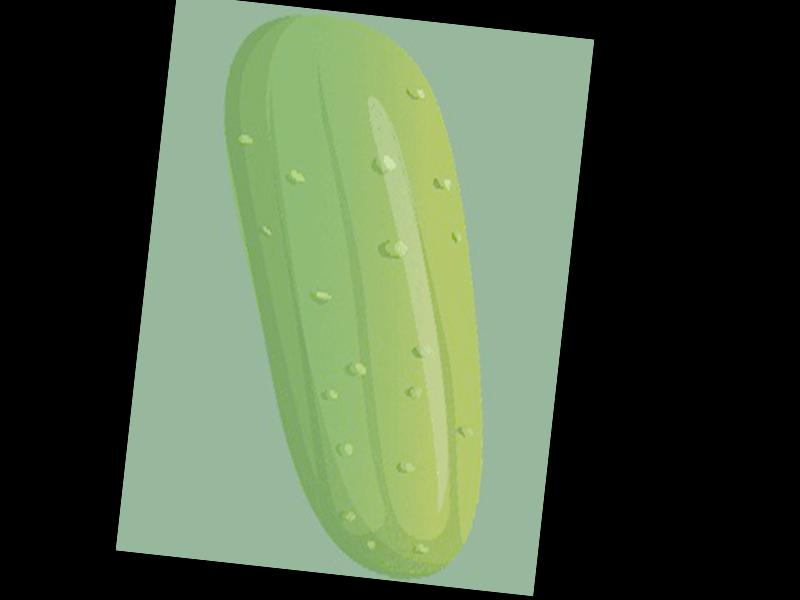Cucumber: (174, 2, 529, 584)
